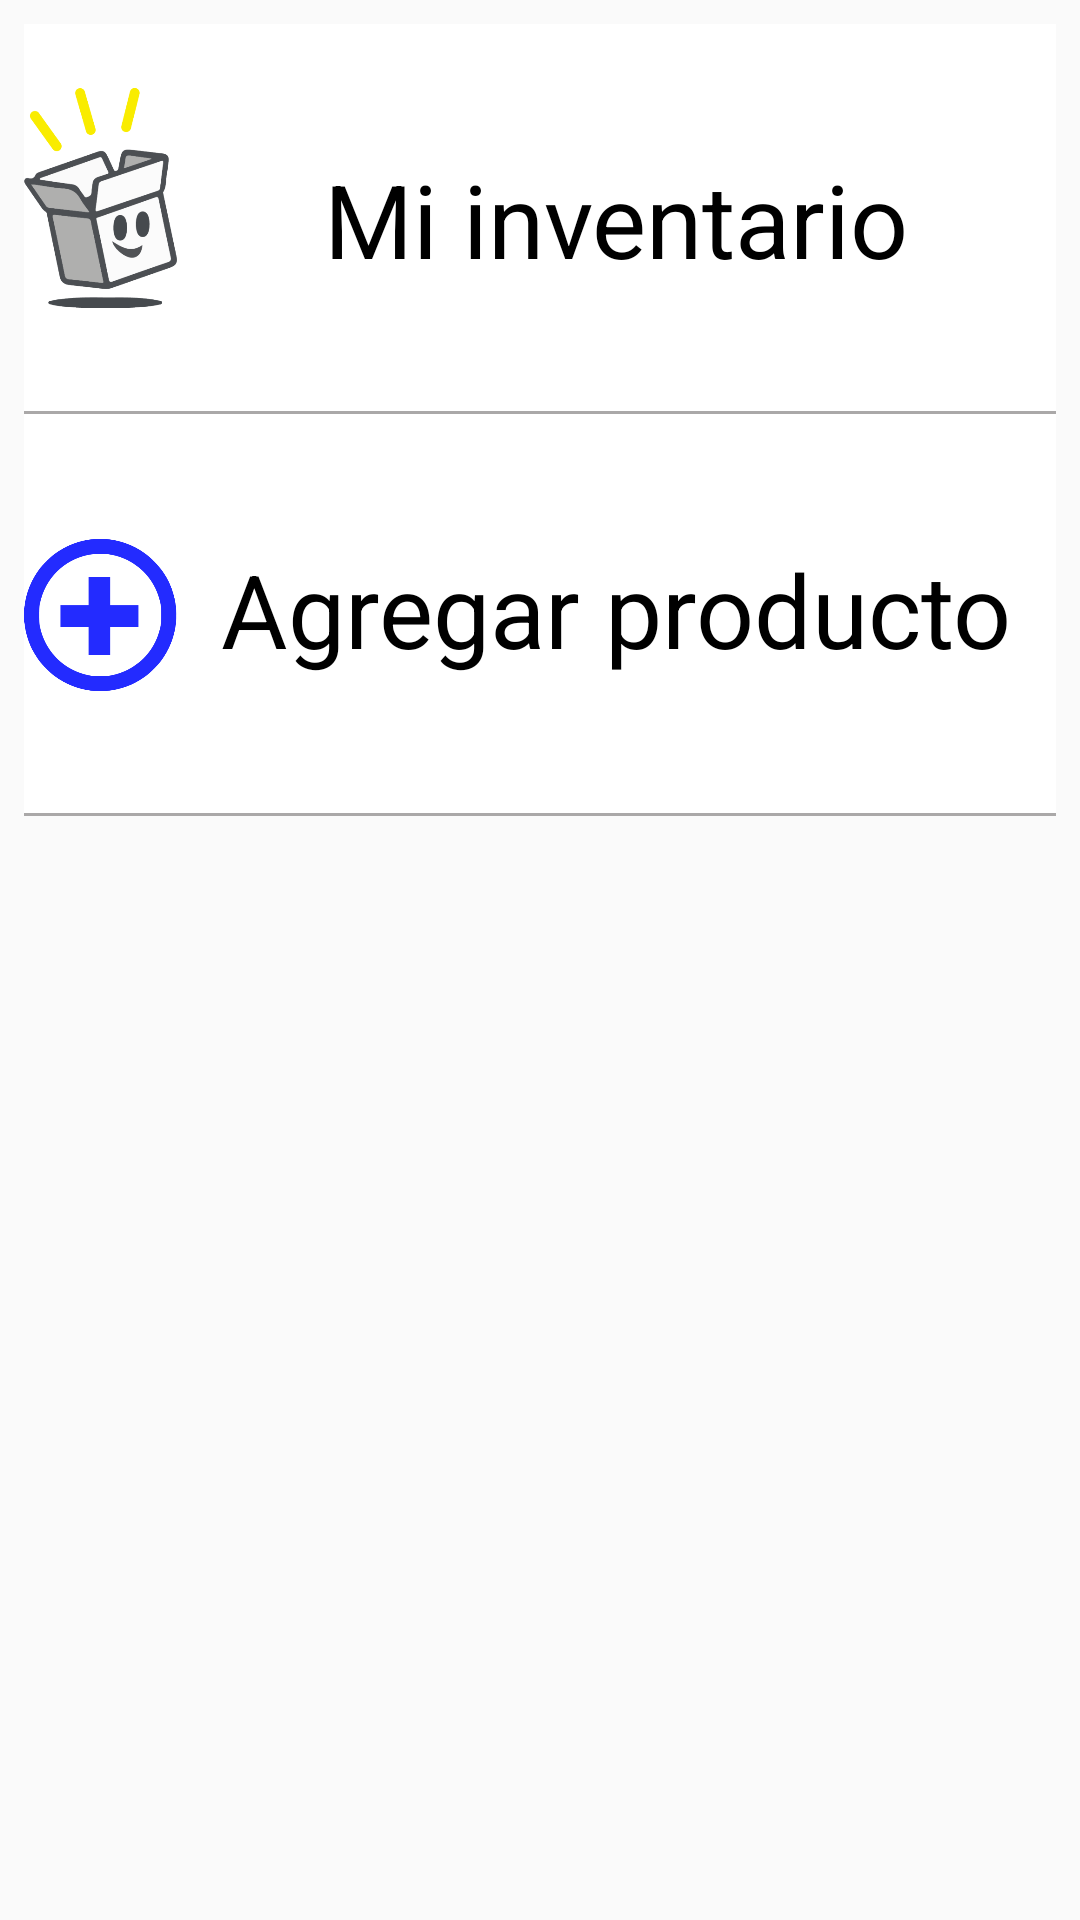

Icon click points for this 1080x1920 phone screenshot, format [x,y]:
agregar azul: [100,615]
